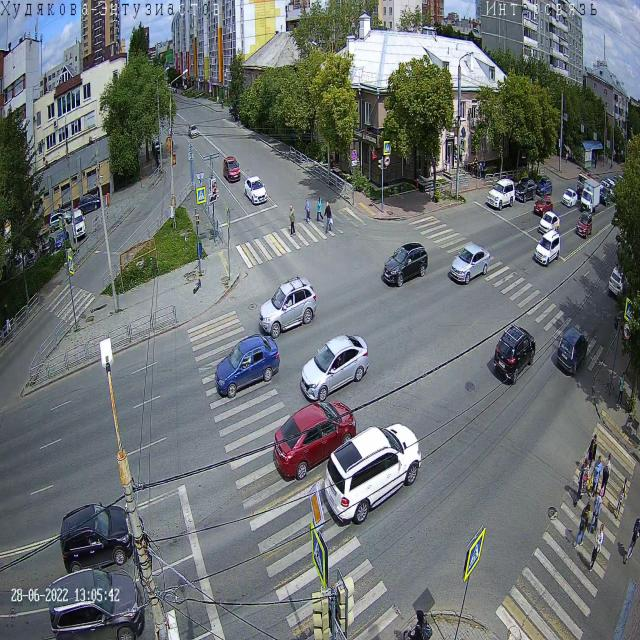bicycle: (403, 608, 433, 640)
car: (324, 422, 422, 526), (48, 566, 144, 640), (273, 400, 356, 481), (60, 500, 135, 576), (301, 333, 369, 402), (214, 332, 280, 400), (258, 274, 317, 338), (493, 322, 536, 387), (382, 240, 428, 288), (450, 242, 490, 286), (556, 325, 589, 376), (534, 229, 560, 268), (487, 178, 515, 211), (244, 176, 268, 206), (608, 262, 628, 298), (513, 176, 536, 204), (538, 211, 560, 236), (223, 156, 241, 184), (576, 210, 592, 239), (534, 195, 553, 218), (535, 176, 553, 198), (562, 188, 578, 208), (599, 186, 611, 207), (188, 124, 199, 139), (598, 179, 609, 194), (153, 138, 163, 154)
pedestrian: (573, 457, 590, 509), (574, 500, 591, 550), (624, 514, 640, 567), (588, 487, 604, 536), (589, 524, 604, 574), (587, 454, 602, 501), (583, 433, 598, 476), (600, 451, 612, 503), (615, 477, 628, 521), (616, 370, 626, 412), (3, 301, 12, 344), (324, 200, 334, 234), (289, 202, 296, 238), (316, 194, 324, 225), (304, 196, 312, 226), (474, 157, 479, 182), (481, 157, 486, 179), (472, 156, 476, 181), (479, 158, 483, 180), (237, 113, 241, 129), (610, 159, 614, 171), (232, 109, 235, 124), (216, 93, 219, 105), (565, 152, 568, 164), (594, 157, 597, 169), (221, 98, 224, 109), (606, 154, 609, 165)
truck: (576, 167, 602, 200), (580, 178, 601, 215)
